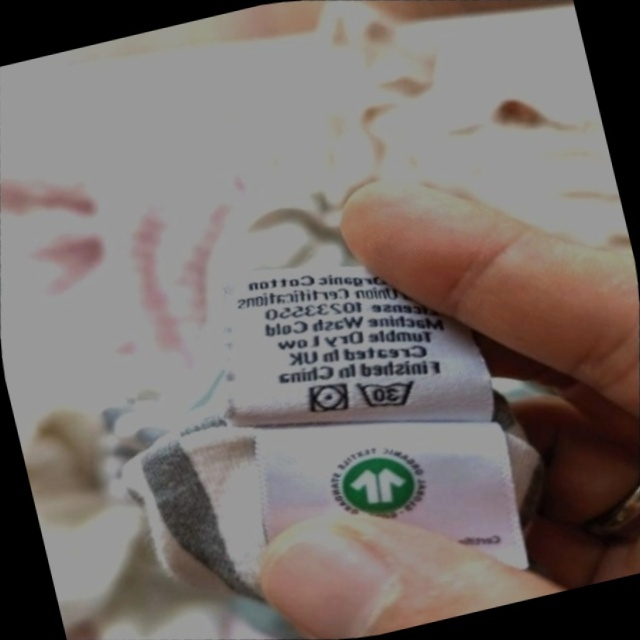30C: (345, 361, 429, 426)
tumble_dry_low: (297, 370, 360, 427)
